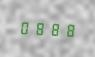eight: (46, 19, 59, 37), (60, 20, 73, 38), (32, 19, 45, 36)
zero: (18, 18, 31, 36)
